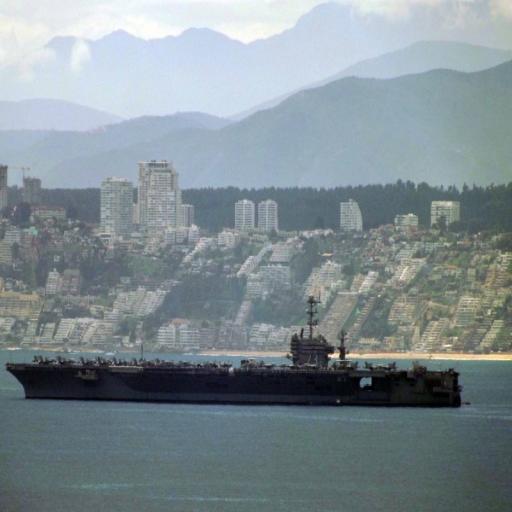Portanaves: (2, 289, 468, 413)
